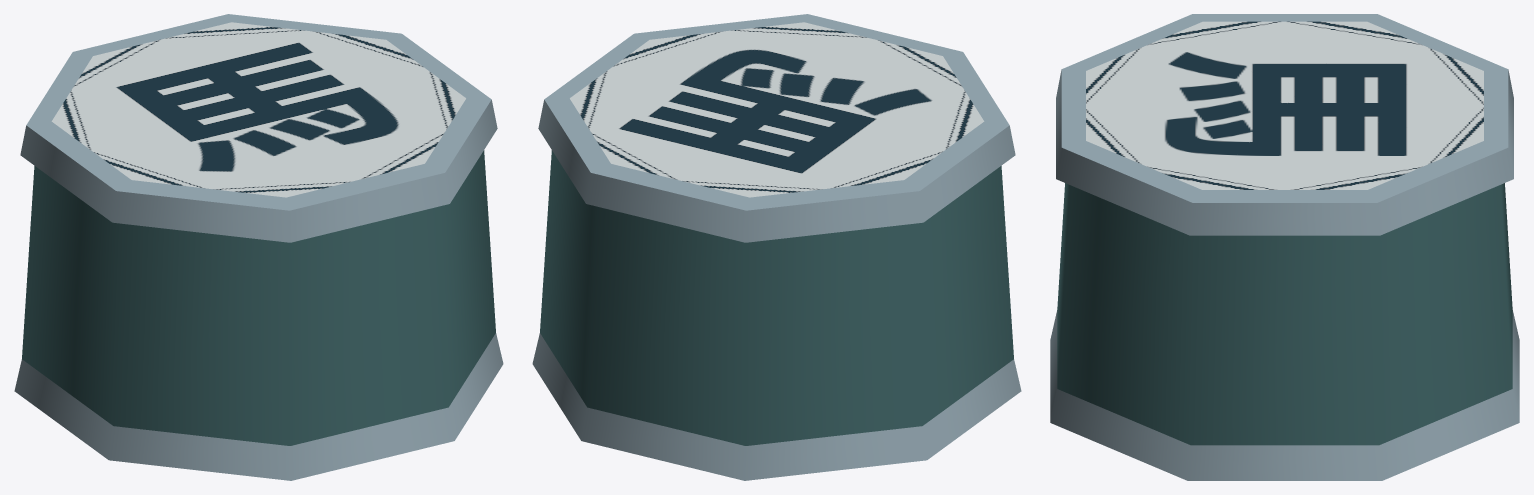
File: Blue4.glb
The picture shows the model from 3 angles, left to right: view 1: azimuth 30°, elevation 25°; view 2: azimuth 150°, elevation 25°; view 3: azimuth 270°, elevation 25°; orthographic projection. The views are drawn at different scales.
Visible parts, largest first — view 1: Blue4; view 2: Blue4; view 3: Blue4.
Boxes of the visible parts, x1,y1,x2,y2 form: Blue4: (14, 14, 503, 480); Blue4: (532, 14, 1021, 480); Blue4: (1050, 14, 1519, 480).
Bounding box in the file's own units: 0.7668 × 0.497 × 0.7668.
3 materials, 1 textured.
